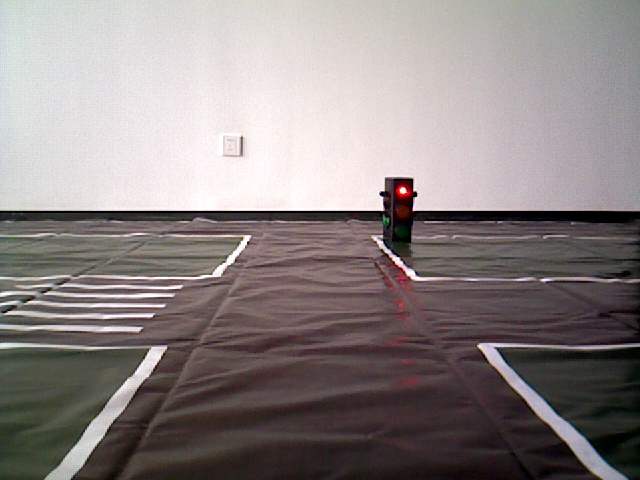red: (384, 179, 413, 242)
